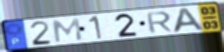1: (88, 15, 104, 41)
2: (28, 21, 53, 47), (114, 13, 139, 38)
A: (172, 6, 207, 34)
M: (52, 17, 84, 44)
R: (145, 10, 174, 34)
